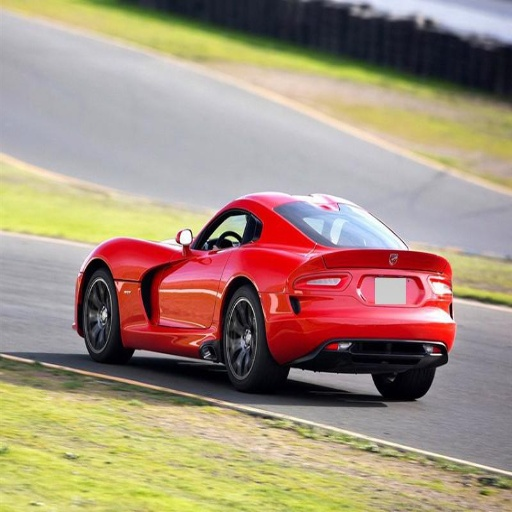back_bumper: (269, 299, 456, 360)
back_glass: (280, 200, 393, 246)
trunk: (330, 251, 439, 308)
